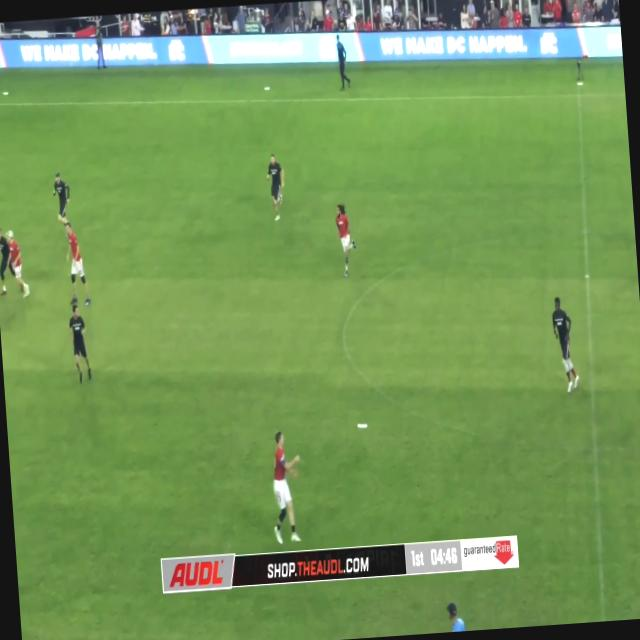Disc: (357, 423, 367, 428), (264, 86, 270, 89), (576, 82, 582, 85), (3, 92, 8, 94)
Player: (268, 429, 306, 545), (551, 297, 580, 393), (66, 301, 94, 384), (64, 222, 90, 306), (333, 202, 358, 279), (264, 153, 288, 222), (6, 229, 30, 296), (51, 172, 71, 230), (0, 226, 13, 299), (336, 36, 352, 89)
